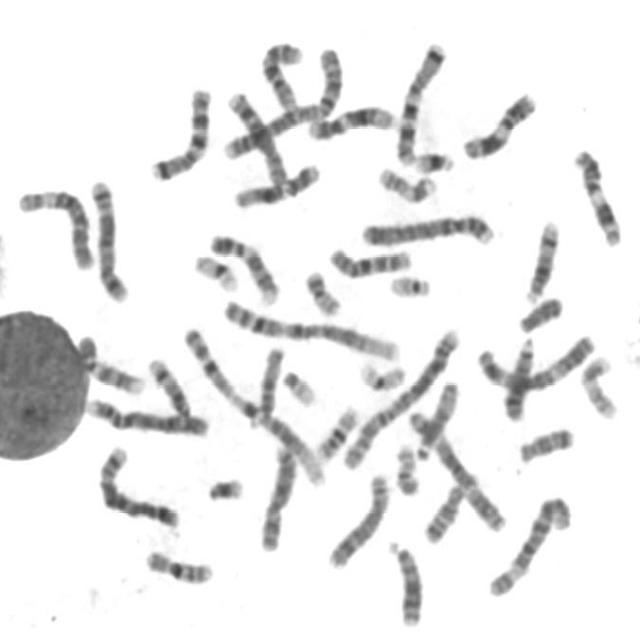A1: (178, 318, 331, 490), (218, 292, 403, 364)
A2: (339, 320, 465, 470), (220, 41, 348, 161)
A3: (404, 402, 512, 534), (472, 326, 600, 393)
B4: (82, 390, 214, 439), (358, 206, 500, 249)
B5: (94, 438, 184, 530), (85, 172, 134, 304)
C10: (256, 34, 306, 112), (326, 239, 416, 279)
C11: (457, 85, 542, 162), (570, 140, 626, 248)
C12: (229, 156, 324, 210), (303, 98, 400, 141)
C6: (484, 488, 576, 599), (14, 180, 100, 272)
C7: (392, 34, 452, 168), (145, 79, 216, 183)
C8: (323, 466, 395, 572), (222, 84, 292, 188)
C9: (205, 227, 284, 307), (72, 329, 149, 396)
D13: (383, 533, 428, 628), (499, 328, 541, 422)
D14: (522, 212, 564, 305), (144, 351, 196, 419)
D15: (411, 373, 464, 462), (247, 339, 288, 431)
E16: (141, 542, 218, 586), (312, 399, 362, 464)
E17: (577, 348, 623, 422), (374, 160, 441, 205)
E18: (420, 476, 470, 545), (515, 420, 578, 466)
F19: (190, 246, 242, 294), (355, 353, 410, 392)
F20: (300, 262, 346, 318), (392, 437, 424, 498)
G21: (411, 142, 459, 176), (203, 469, 249, 504)
G22: (277, 362, 320, 408), (386, 266, 436, 300)
X: (255, 438, 300, 554)
Y: (514, 288, 568, 334)
